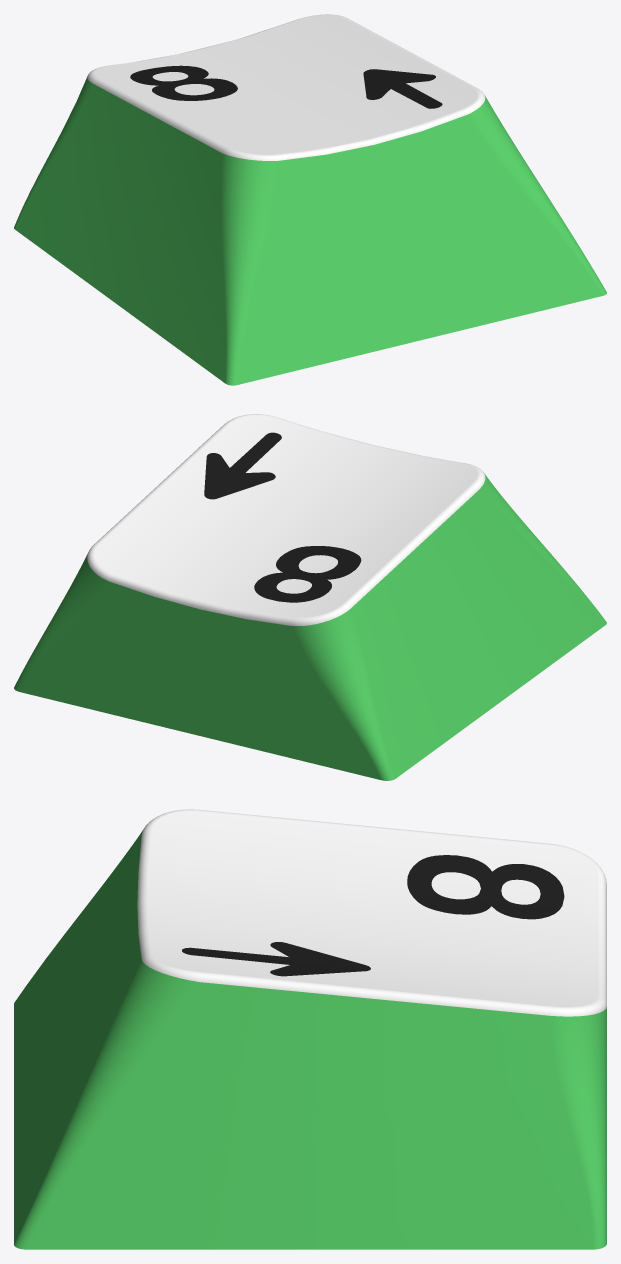
Rendered from NUM 8 Up.fbx.
3 views of the same model, one above another, from view 1: azimuth 30°, elevation 25°; view 2: azimuth 150°, elevation 25°; view 3: azimuth 270°, elevation 25° (orthographic). The views are drawn at different scales.
Parts seen in each view (by area): view 1: Body1; view 2: Body1; view 3: Body1.
Part boxes in pixels (<box>): Body1: <box>14,14,606,385</box>; Body1: <box>14,414,606,780</box>; Body1: <box>14,809,606,1249</box>.
Size of the model in its own units: 18 by 7.85 by 18.
